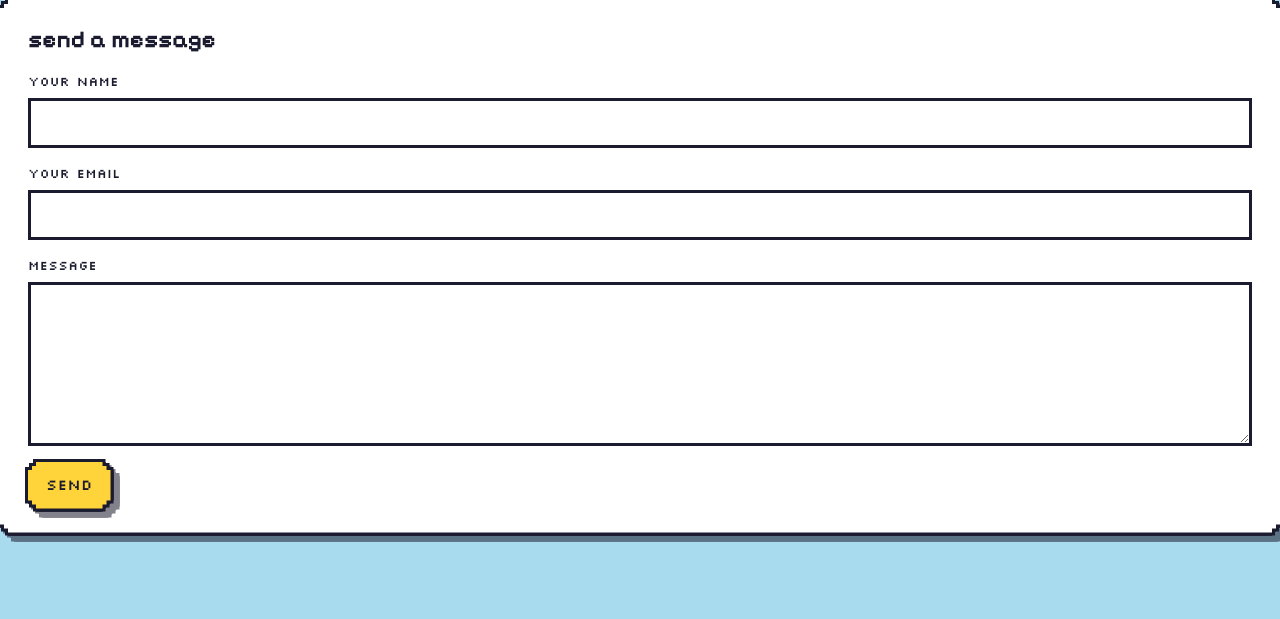
Test: ContactForm › sends what was typed to the action
Type "Ada" into the field labelled "your name" at (640,123), box [28,98,1252,148]
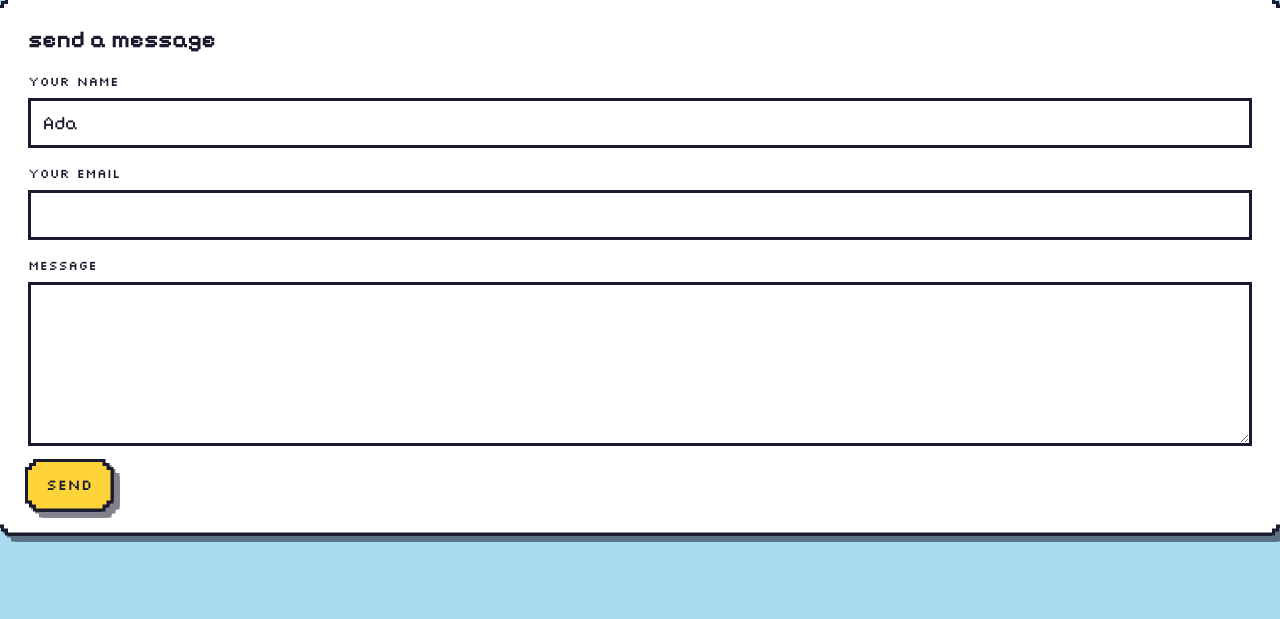
Type "ada@example.com" into the field labelled "your email" at (640,215), box [28,190,1252,240]
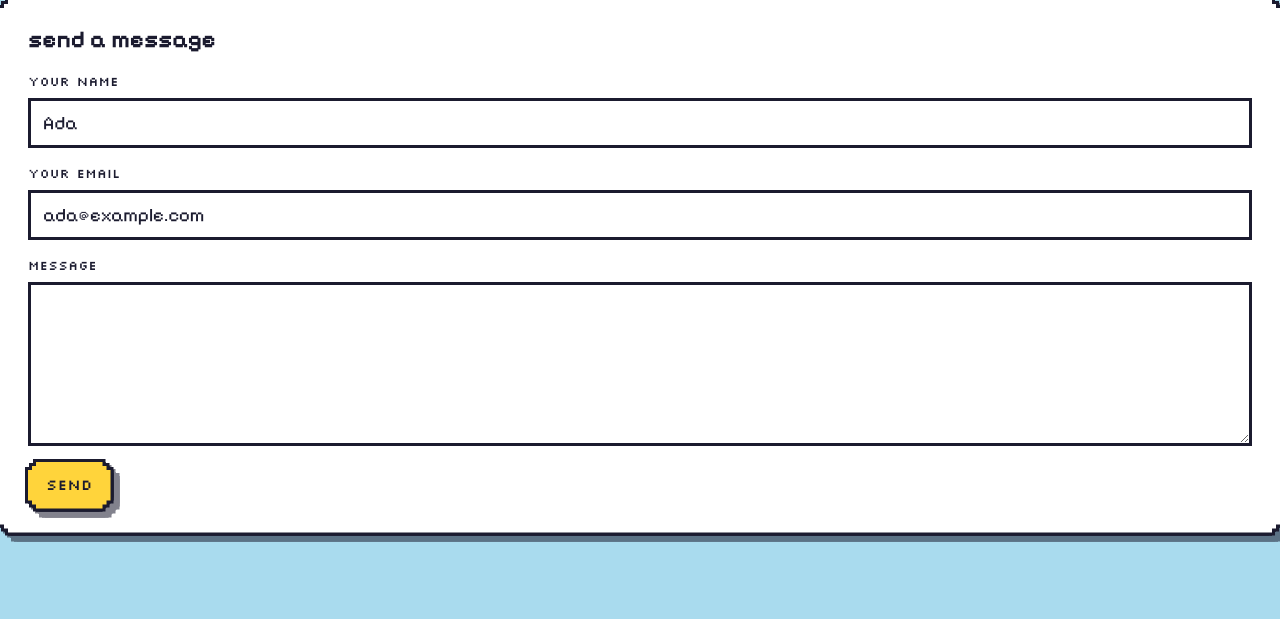
Type "Hello!" into the text box labelled "message" at (640,364), box [28,282,1252,446]
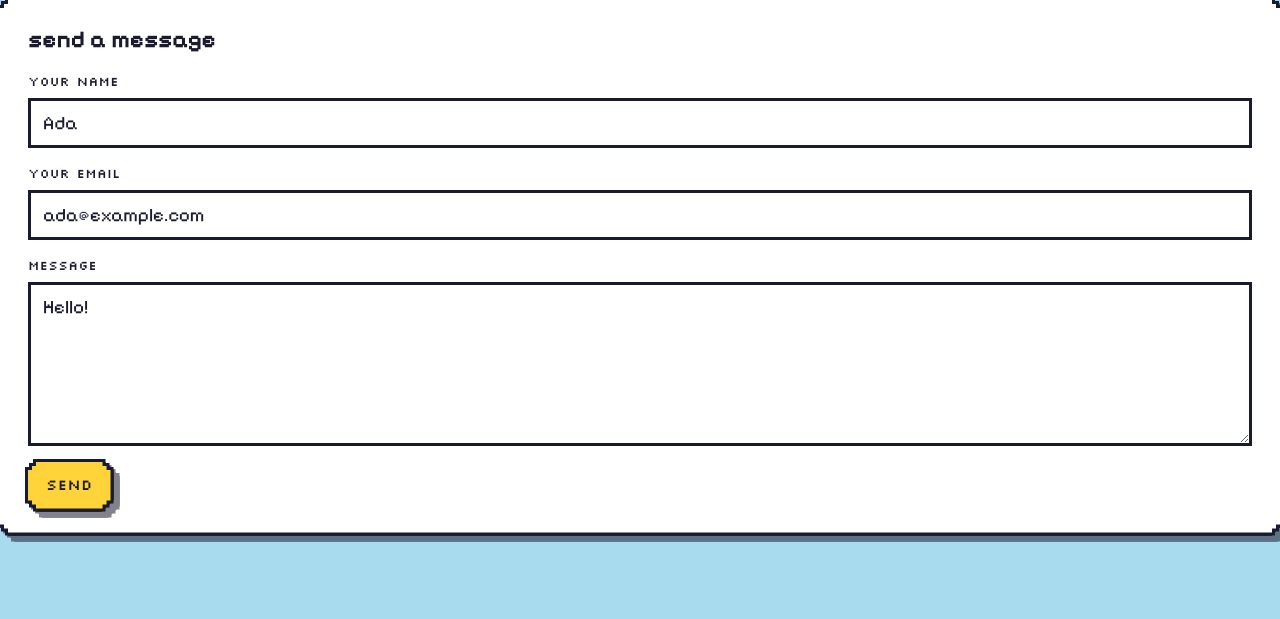
Click the button "send" at (69,485), box [28,462,110,508]
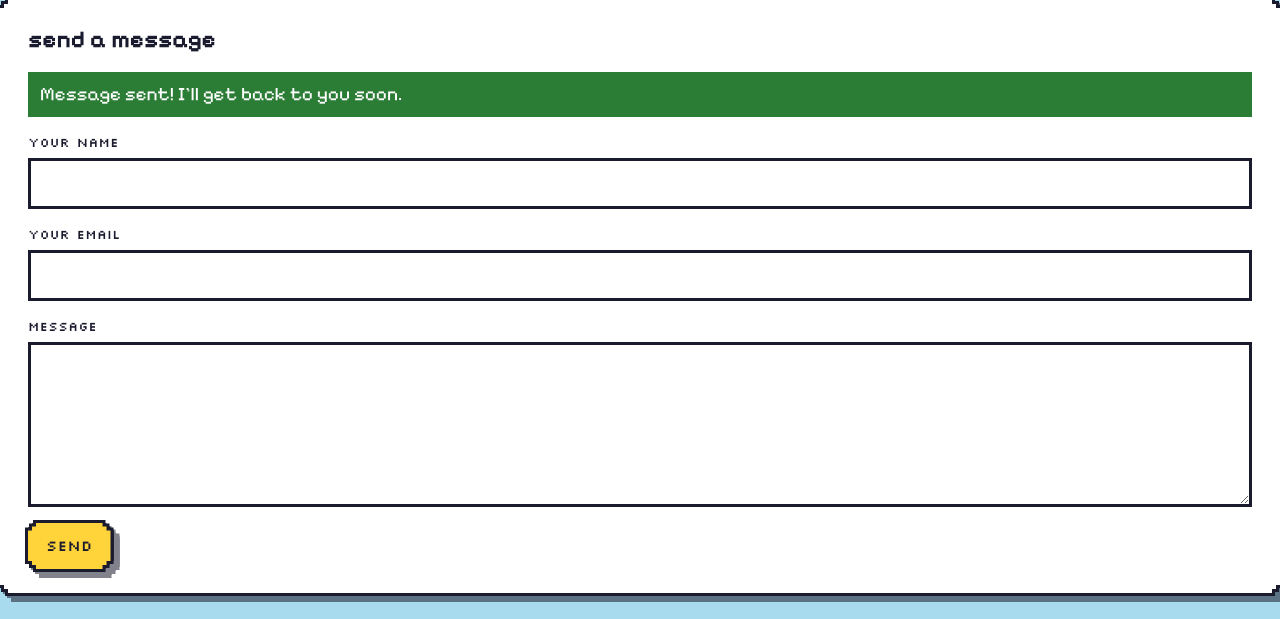
Check: the message shows "Message sent!", box [40,83,402,105]
